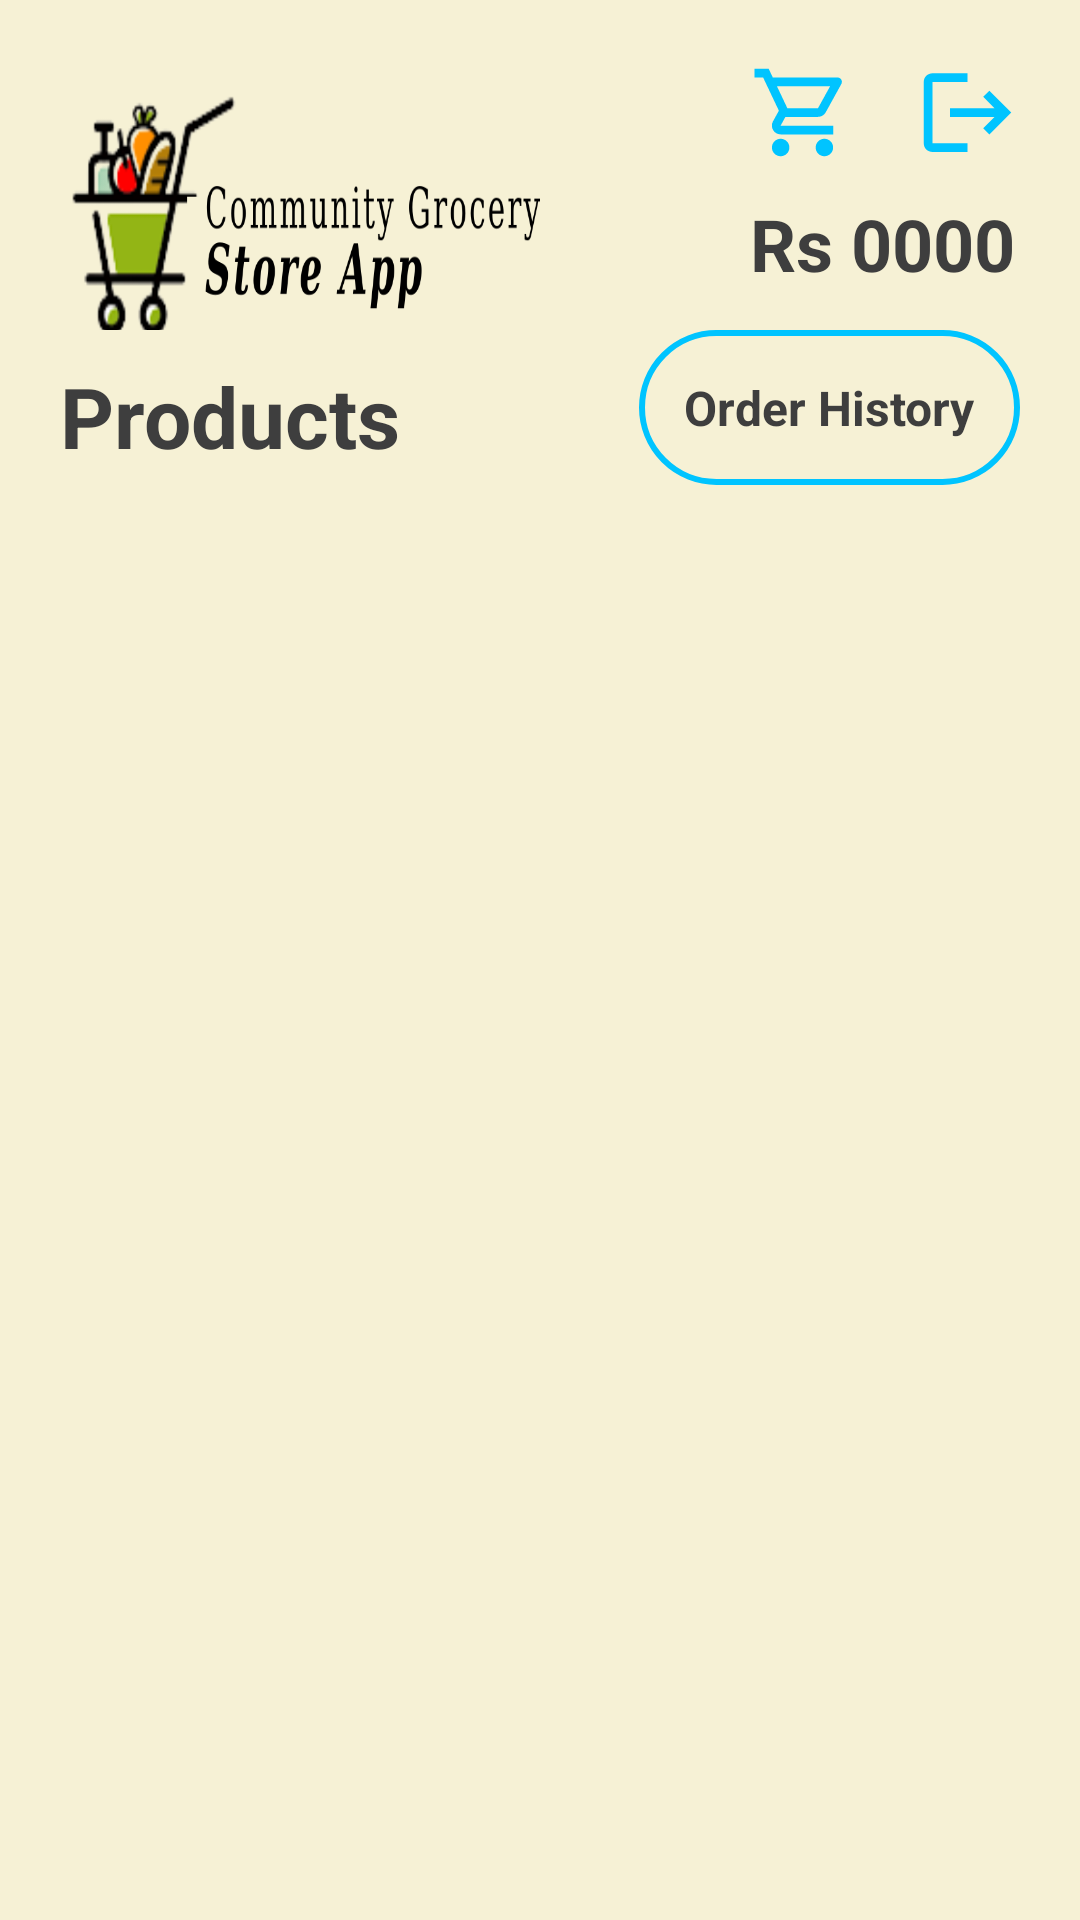

Named icons in this screenshot (1080×1920) and their centers, point (x, y):
cart: point (798, 112)
